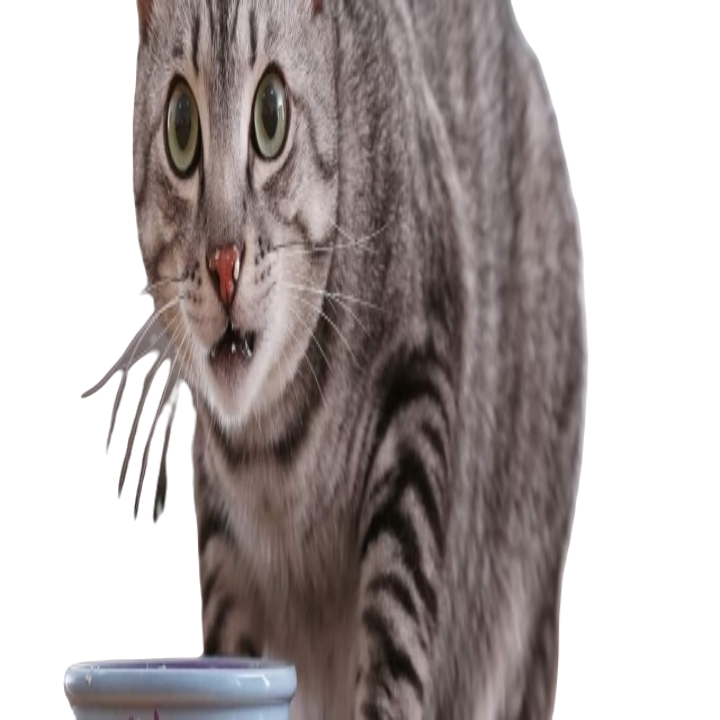Cat: (57, 0, 569, 718)
